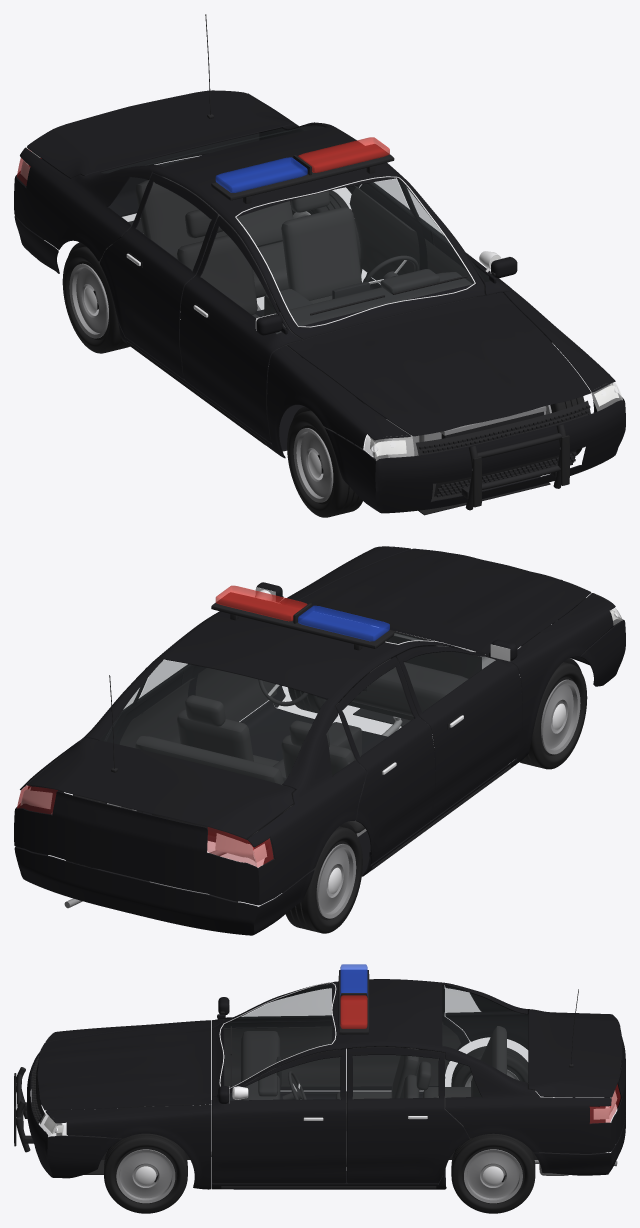
Rendered from police_sedan.glb.
The picture shows the model from 3 angles, top to bottom: view 1: azimuth 30°, elevation 25°; view 2: azimuth 150°, elevation 25°; view 3: azimuth 270°, elevation 25°; orthographic projection. The views are drawn at different scales.
Visible parts, largest first — view 1: hood, body_shell, glass_windshield, bumper_front, trunk_lid, door_FR, door_RR, seat_FL, fender_FR, seat_rear, dash, lightbar (+21 smaller); view 2: body_shell, hood, glass_rear, trunk_lid, door_FR, bumper_rear, door_RR, fender_FR, lightbar, lightbar_lens, seat_FL, glass_door_RR (+21 smaller); view 3: body_shell, hood, door_FL, door_RL, trunk_lid, glass_windshield, fender_FL, glass_rear, door_trim_FR, glass_door_RL, bumper_front, tyre_RL (+25 smaller).
Boxes of the visible parts, box(x1,y1,x2,y2) form: hood: box(287, 292, 591, 436); body_shell: box(14, 93, 485, 451); glass_windshield: box(238, 179, 473, 325); bumper_front: box(324, 385, 625, 513); trunk_lid: box(27, 90, 294, 178); door_FR: box(180, 216, 302, 442); door_RR: box(100, 173, 218, 378); seat_FL: box(281, 191, 361, 303); fender_FR: box(267, 345, 410, 458); seat_rear: box(135, 176, 293, 303); dash: box(264, 269, 476, 362); lightbar: box(211, 144, 394, 203); body_shell: box(14, 600, 516, 905); hood: box(288, 548, 591, 654); glass_rear: box(101, 660, 325, 784); trunk_lid: box(27, 738, 294, 838); door_FR: box(396, 646, 522, 820); bumper_rear: box(14, 813, 314, 935); door_RR: box(335, 657, 435, 863); fender_FR: box(509, 593, 615, 765); lightbar: box(211, 592, 394, 650); lightbar_lens: box(215, 585, 389, 641); seat_FL: box(177, 695, 278, 766); glass_door_RR: box(343, 668, 413, 756); body_shell: box(211, 979, 625, 1189); hood: box(37, 1022, 211, 1110); door_FL: box(212, 1049, 346, 1183); door_RL: box(347, 1047, 469, 1183); trunk_lid: box(528, 1009, 622, 1097); glass_windshield: box(224, 984, 331, 1087); fender_FL: box(45, 1104, 211, 1189); glass_rear: box(443, 986, 527, 1082); door_trim_FR: box(224, 1026, 340, 1086); glass_door_RL: box(353, 1055, 438, 1098); bumper_front: box(27, 1052, 121, 1178); tyre_RL: box(451, 1133, 535, 1213).
Size of the model in its own units: 1.88 by 1.77 by 4.98.
